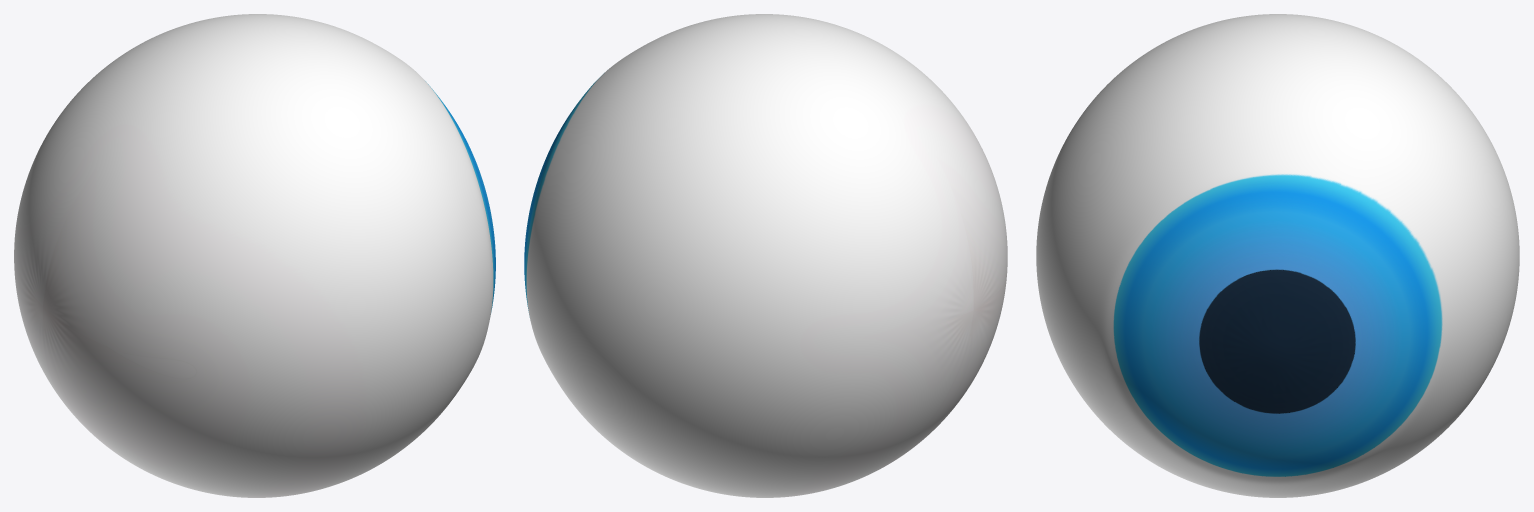
File: EyeBallFullToon1.glb
3 views of the same model, side by side, from view 1: azimuth 30°, elevation 25°; view 2: azimuth 150°, elevation 25°; view 3: azimuth 270°, elevation 25° (orthographic).
Visible parts, largest first — view 1: Sphere; view 2: Sphere; view 3: Sphere.
Part boxes in pixels (left/top/right/bottom): Sphere: left=14, top=14, right=495, bottom=497; Sphere: left=524, top=14, right=1007, bottom=497; Sphere: left=1036, top=14, right=1519, bottom=497.
Size of the model in its own units: 1.96 by 1.97 by 1.97.
Materials: 1 (1 with a texture image).
